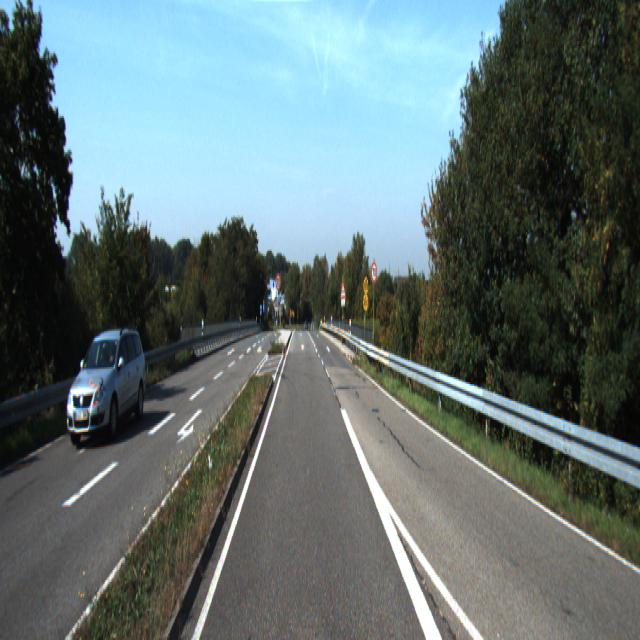Car: (62, 324, 149, 446)
